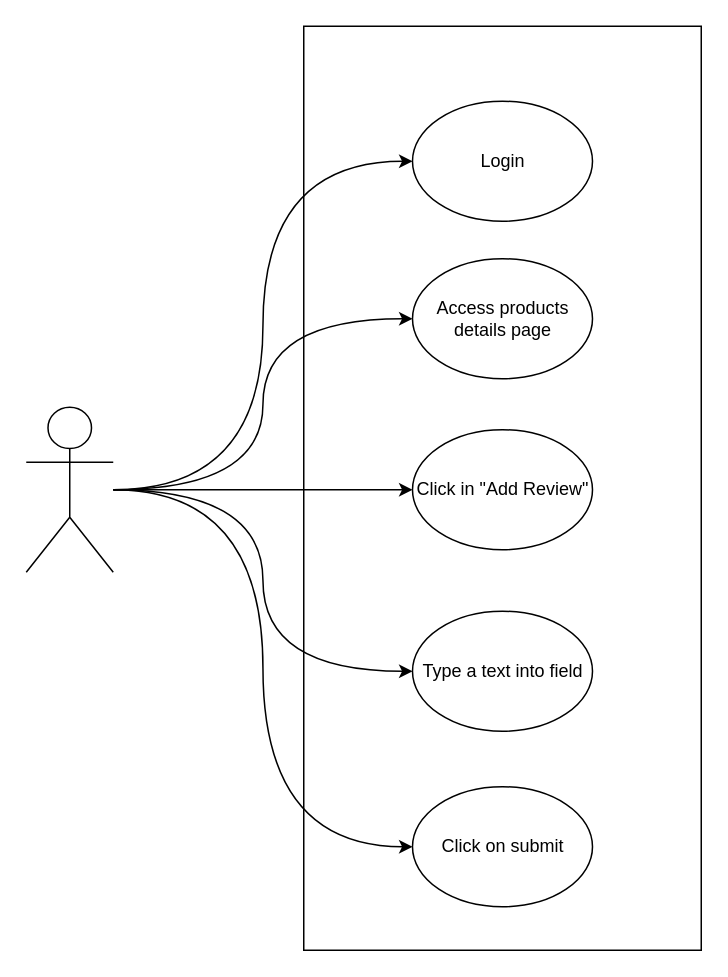
The diagram is 728 pixels wide and 977 high, and some of its shapes have lost their labels. Here are the shapes that lost their labels. From the top down, the box of each, then its label:
(25, 406, 113, 572): User
(302, 25, 701, 950): Reviewing products
